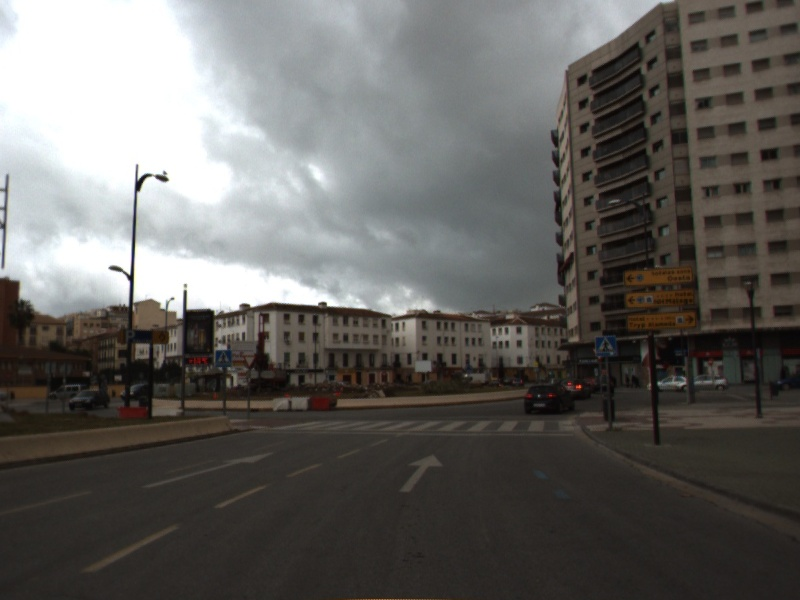STRAIGHT: (139, 451, 276, 491), (396, 452, 446, 495)
